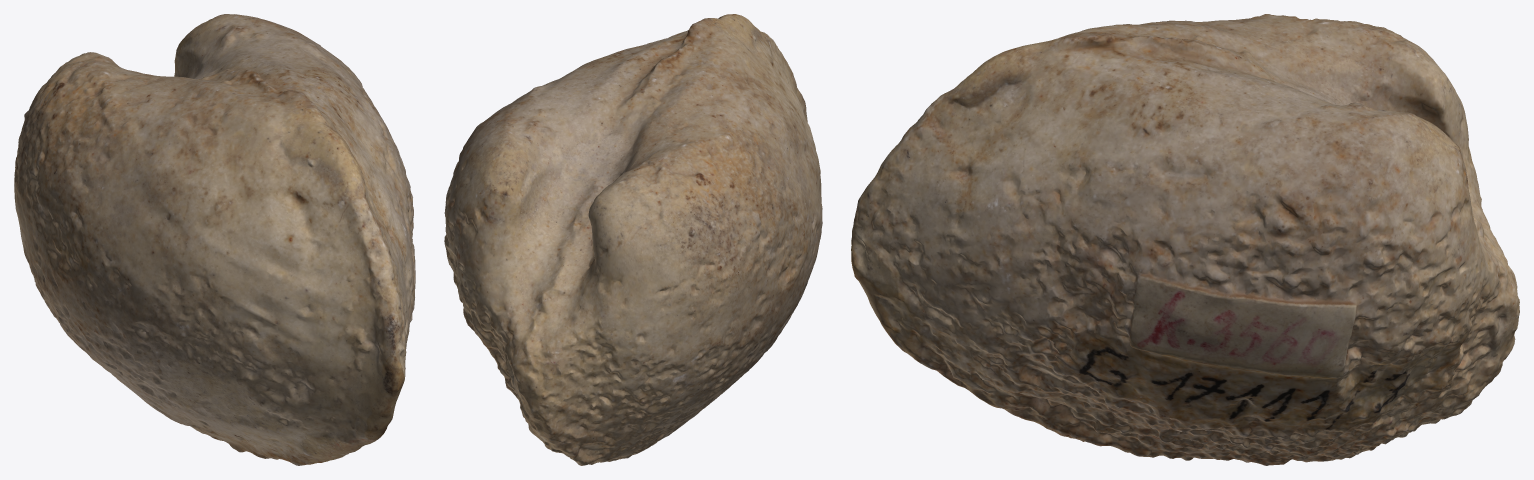
File: EWS0012748.glb
3 renders of one model, left to right at view 1: azimuth 30°, elevation 25°; view 2: azimuth 150°, elevation 25°; view 3: azimuth 270°, elevation 25°, orthographic. The views are drawn at different scales.
Parts seen in each view (by area): view 1: input; view 2: input; view 3: input.
Part boxes in pixels (x1,y1,x2,y2): input: [14, 14, 415, 465]; input: [444, 14, 822, 465]; input: [851, 14, 1519, 465].
Bounding box in the file's own units: 0.0221 × 0.0252 × 0.0352.
Materials: 1 (1 with a texture image).
